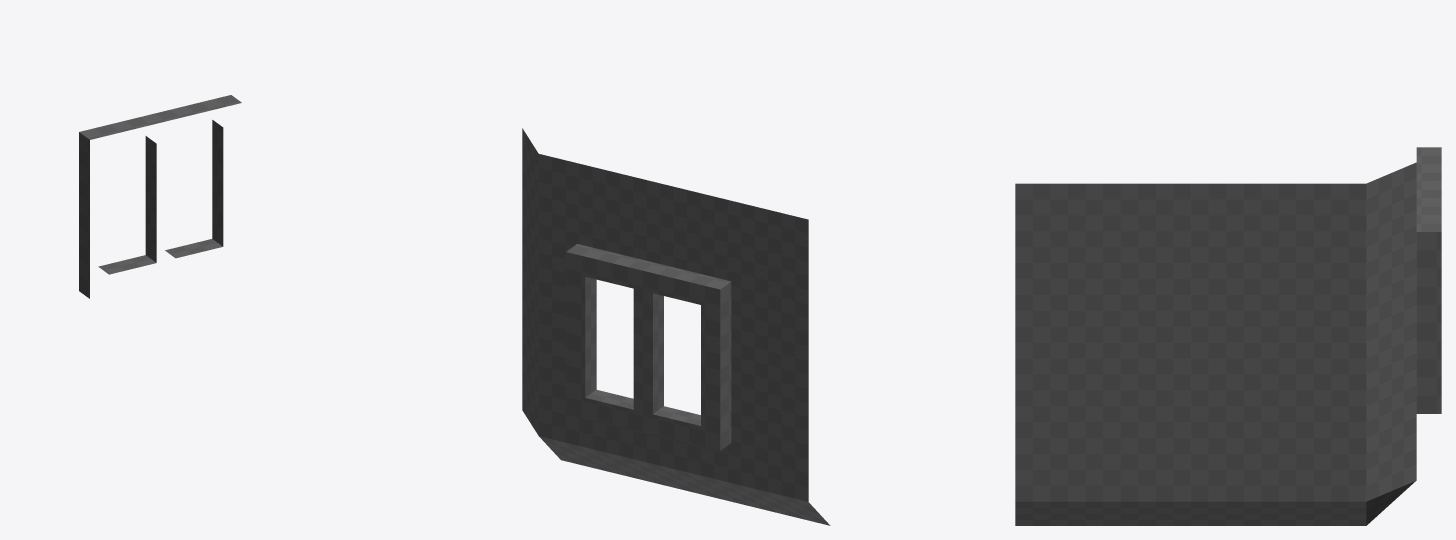
3 renders of one model, left to right at view 1: azimuth 30°, elevation 25°; view 2: azimuth 150°, elevation 25°; view 3: azimuth 270°, elevation 25°, orthographic. The views are drawn at different scales.
Parts seen in each view (by area): view 1: CubeDownBackRightV1; view 2: CubeDownBackRightV1; view 3: CubeDownBackRightV1.
Boxes of the visible parts, x1,y1,x2,y2 form: CubeDownBackRightV1: [79, 95, 241, 298]; CubeDownBackRightV1: [522, 128, 830, 525]; CubeDownBackRightV1: [1015, 147, 1441, 525].
Size of the model in its own units: 2 by 2 by 2.12.
1 material, 1 textured.
